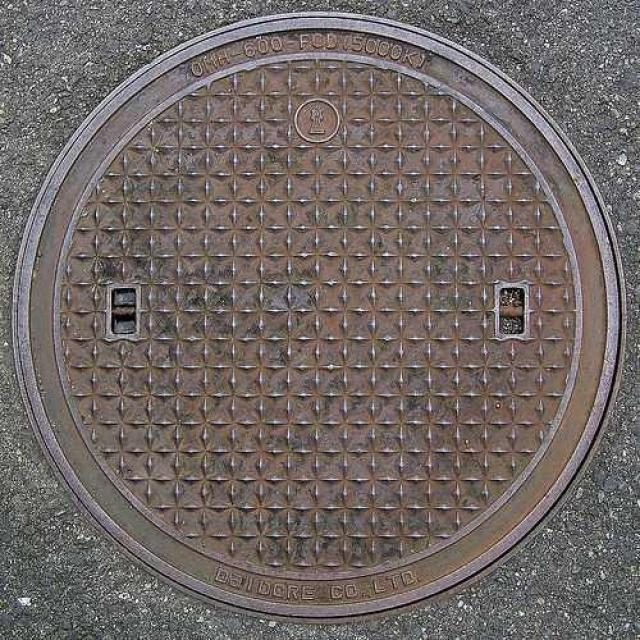manhole: (14, 14, 622, 617)
